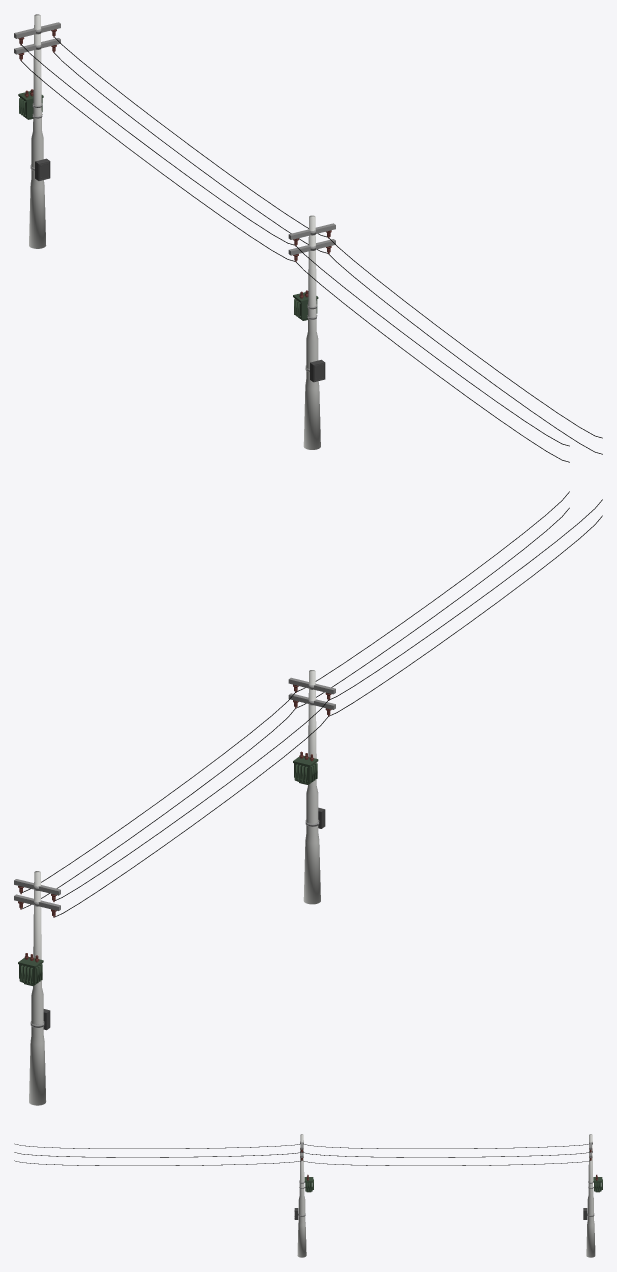
File: UtilityPole 1.fbx
The picture shows the model from 3 angles, top to bottom: view 1: azimuth 30°, elevation 25°; view 2: azimuth 150°, elevation 25°; view 3: azimuth 270°, elevation 25°; orthographic projection. The views are drawn at different scales.
Visible parts, largest first — view 1: Cylinder.013, Cylinder.001, BézierCurve.001, BézierCurve.004, Cylinder.003, Cylinder.020; view 2: Cylinder.001, Cylinder.013, BézierCurve.001, BézierCurve.004; view 3: BézierCurve.001, BézierCurve.004, Cylinder.001, Cylinder.013.
Part boxes in pixels (x1,y1,x2,y2): Cylinder.013: [29, 14, 46, 248]; Cylinder.001: [303, 215, 320, 449]; BézierCurve.001: [296, 238, 602, 462]; BézierCurve.004: [21, 36, 327, 261]; Cylinder.003: [288, 223, 335, 372]; Cylinder.020: [14, 22, 60, 170]; Cylinder.001: [303, 670, 320, 904]; Cylinder.013: [29, 871, 46, 1105]; BézierCurve.001: [295, 491, 602, 716]; BézierCurve.004: [22, 692, 328, 916]; BézierCurve.001: [14, 1143, 302, 1165]; BézierCurve.004: [303, 1144, 590, 1165]; Cylinder.001: [297, 1134, 306, 1257]; Cylinder.013: [586, 1134, 595, 1257].
Bounding box in the file's own units: 733 × 3583 × 15854.
